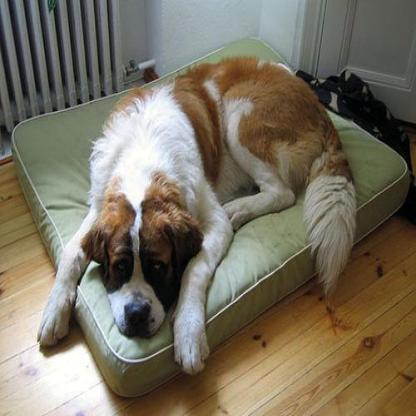Saint_Bernard: (34, 51, 357, 377)
